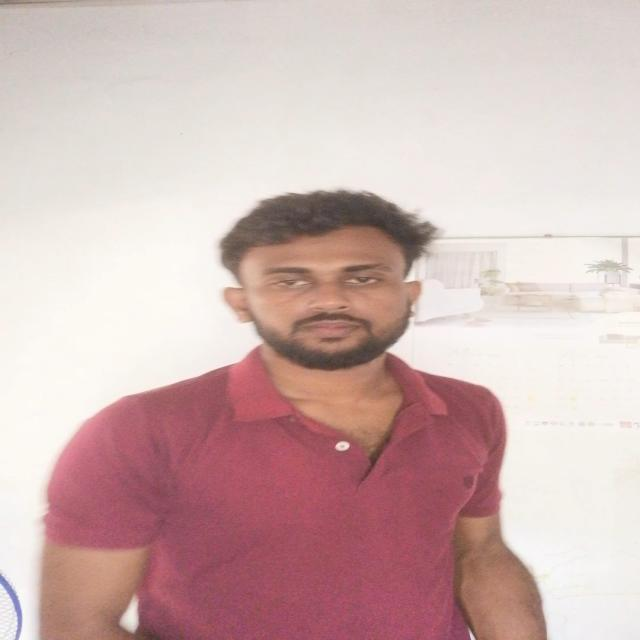Person: (38, 181, 566, 640)
